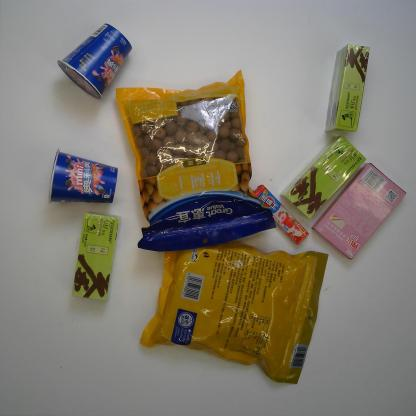Candy: (253, 184, 309, 246)
Dessert: (310, 162, 407, 260), (56, 23, 133, 100), (48, 149, 119, 205)
Dried Food: (115, 68, 278, 253), (139, 241, 329, 386)
Instant Drink: (280, 135, 367, 219), (71, 211, 120, 302), (324, 43, 370, 134)
